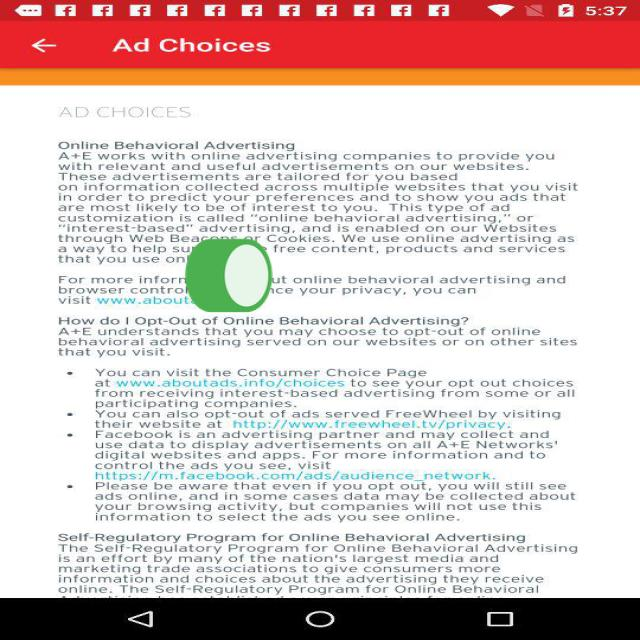social proof: (181, 211, 276, 346)
